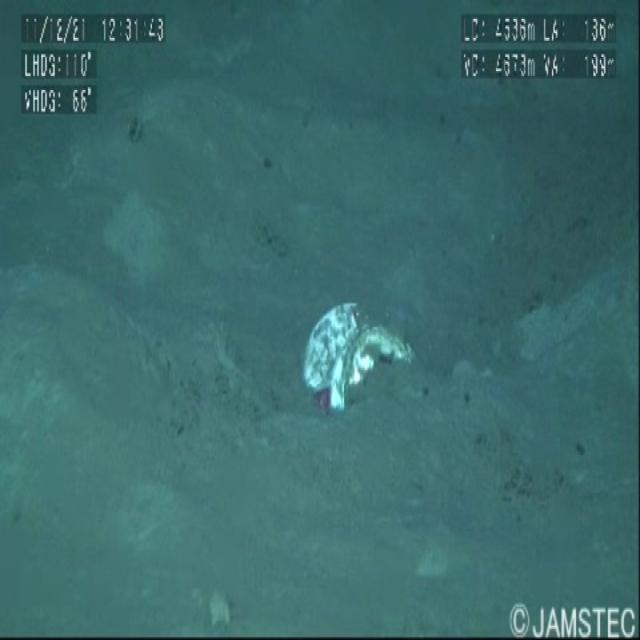Litter: (298, 278, 434, 474)
